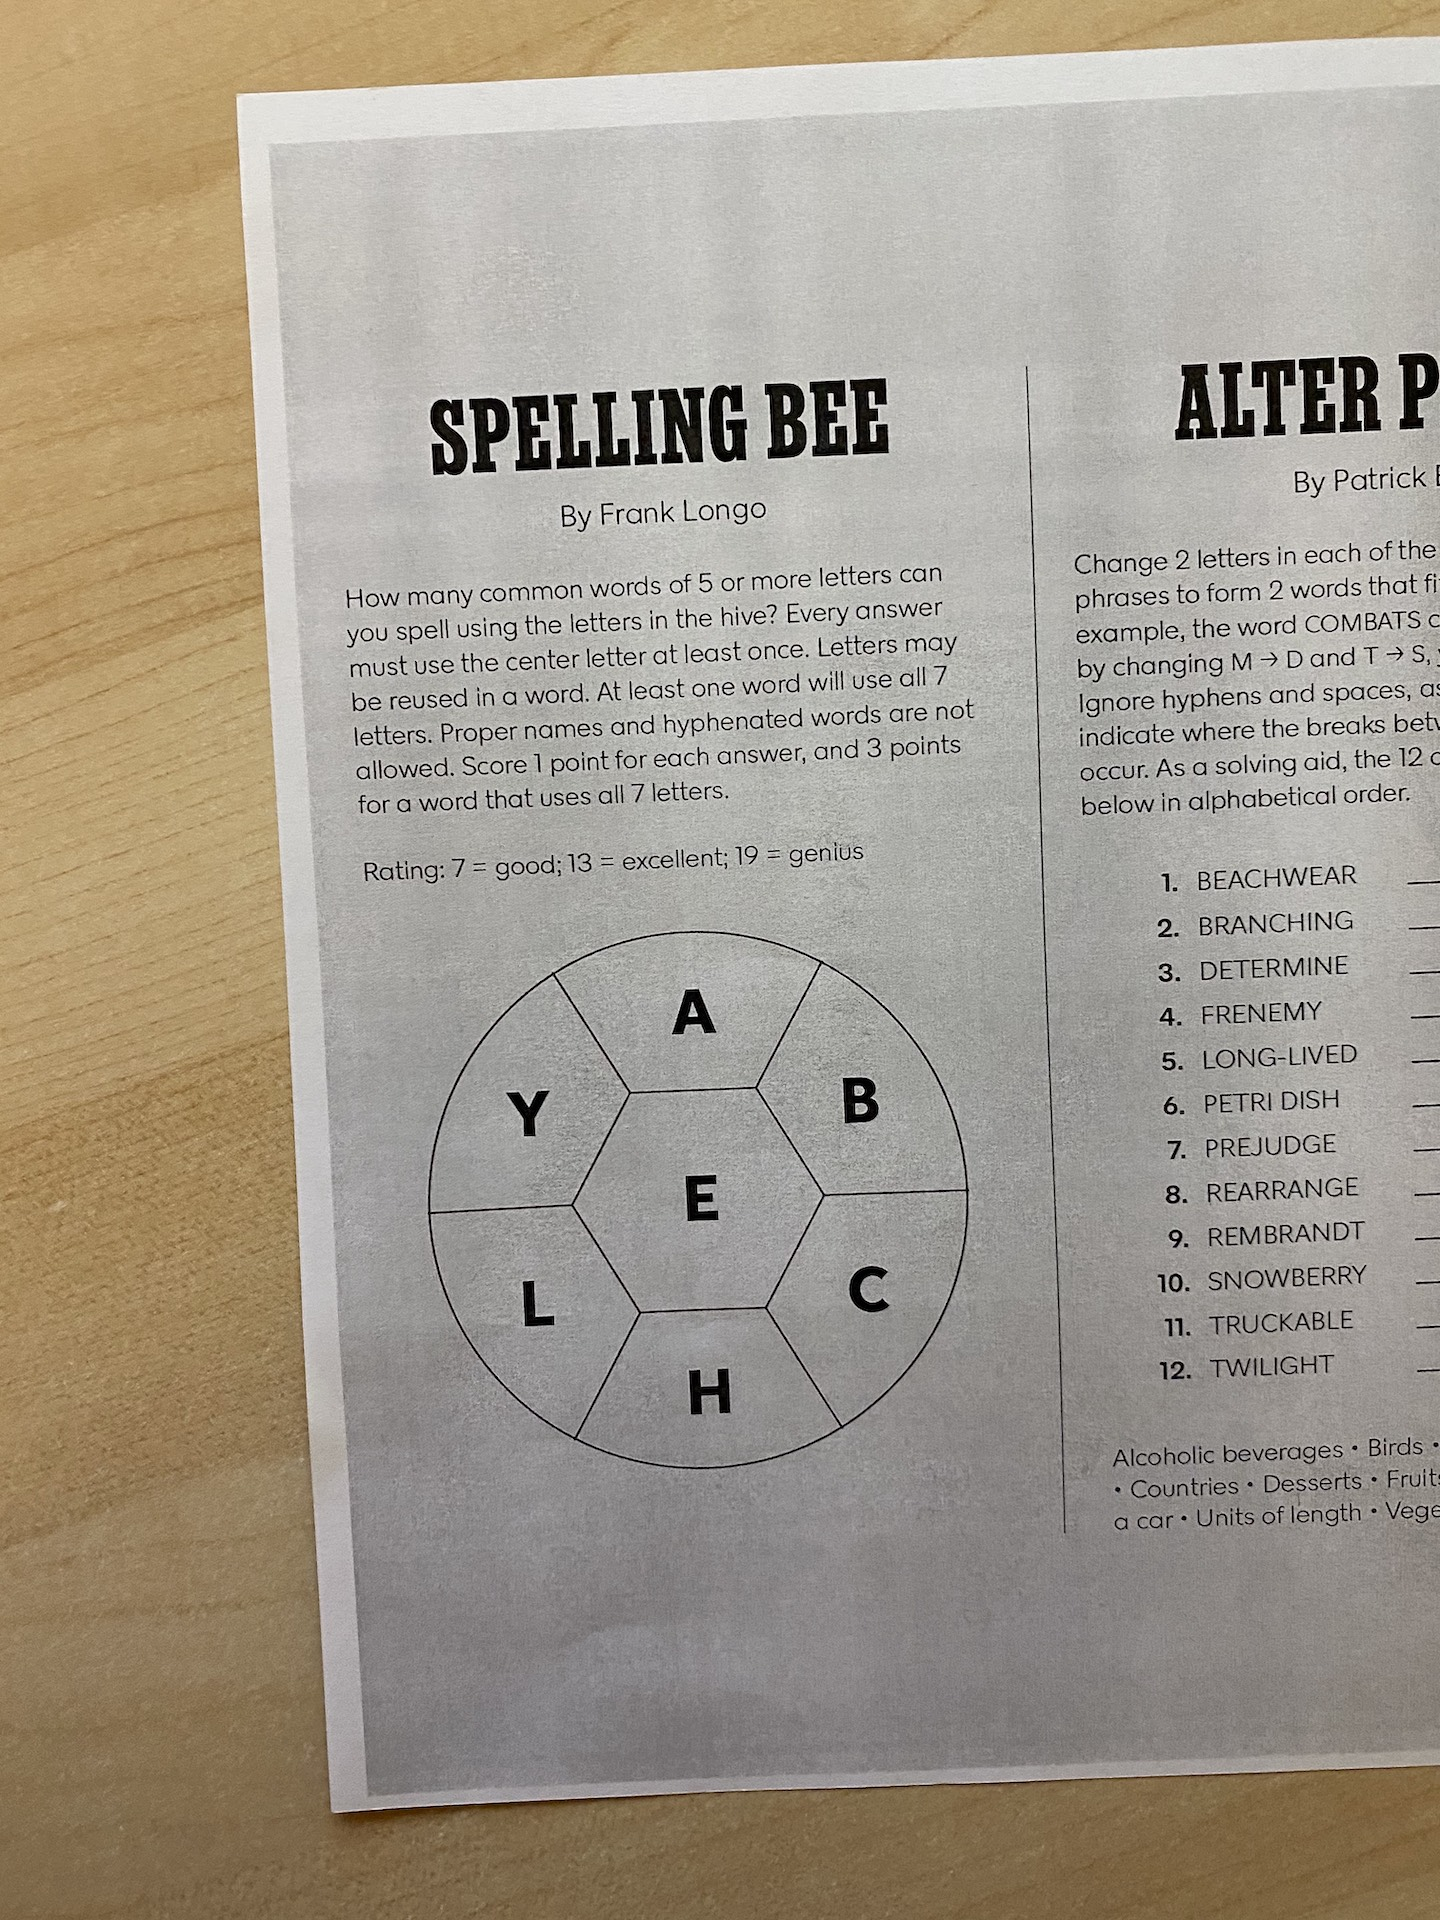PrintBoard: (405, 921, 983, 1482)
